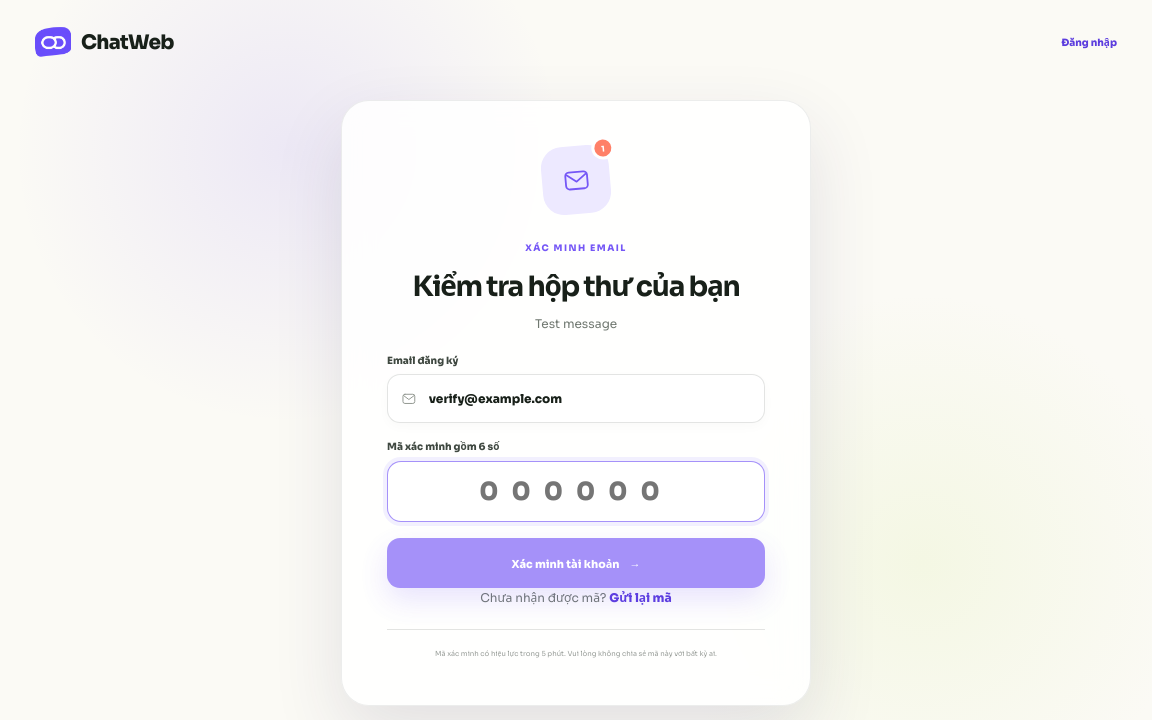
Scenario: VerifyAccountPage › handles resend OTP action and restarts countdown
What coordinates should you click on to do the following:
click the button "Gửi lại mã"
I would click on:
 (640, 598)
Its box is [609,588,672,607].
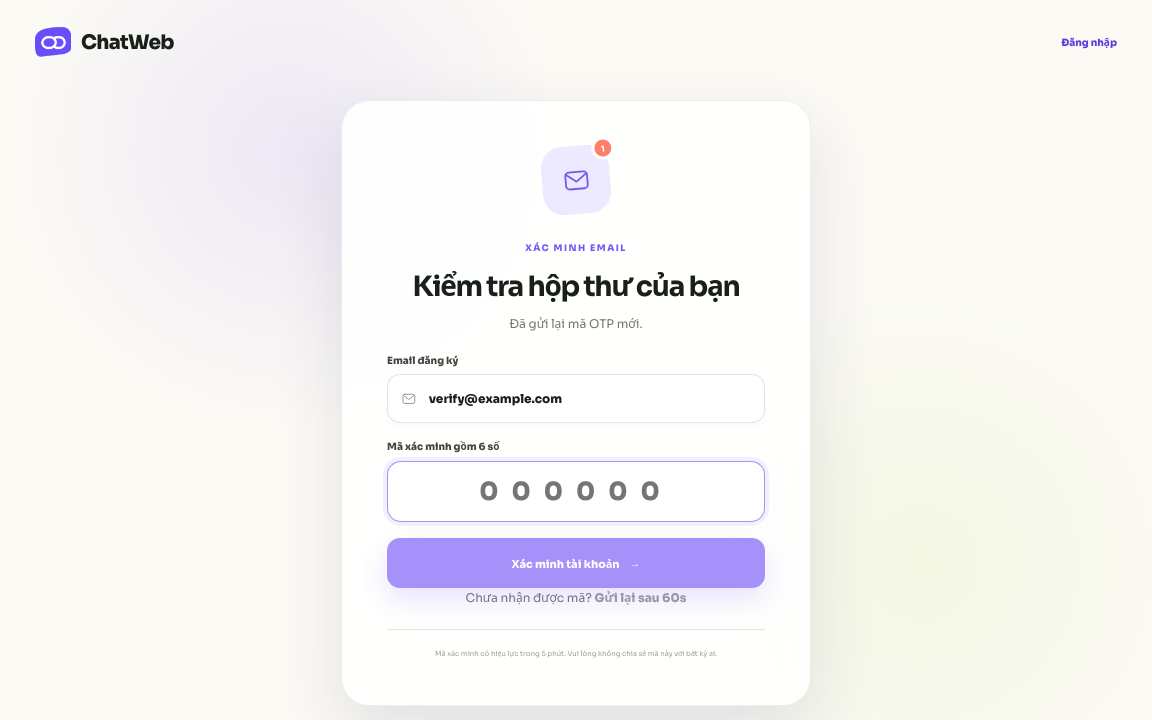
Now the text "Đã gửi lại mã OTP mới." is shown, box [509,316,642,331]
Now the button "Gửi lại sau 60s" is disabled, box [594,588,686,607]
